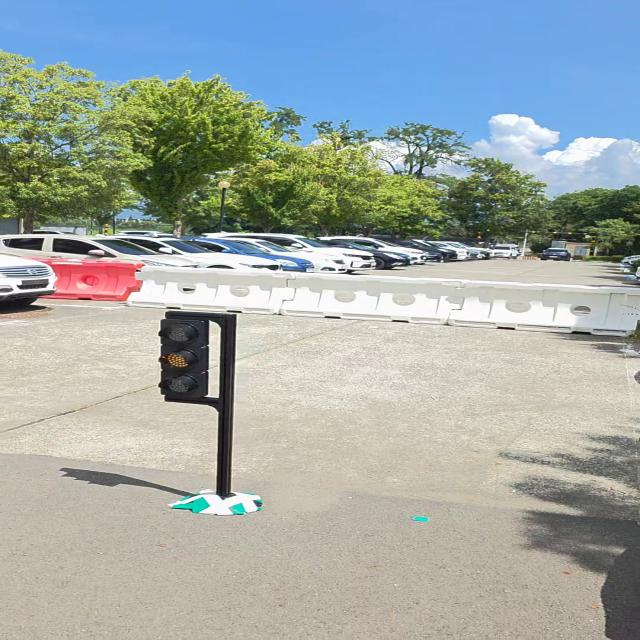yellow: (158, 318, 210, 402)
